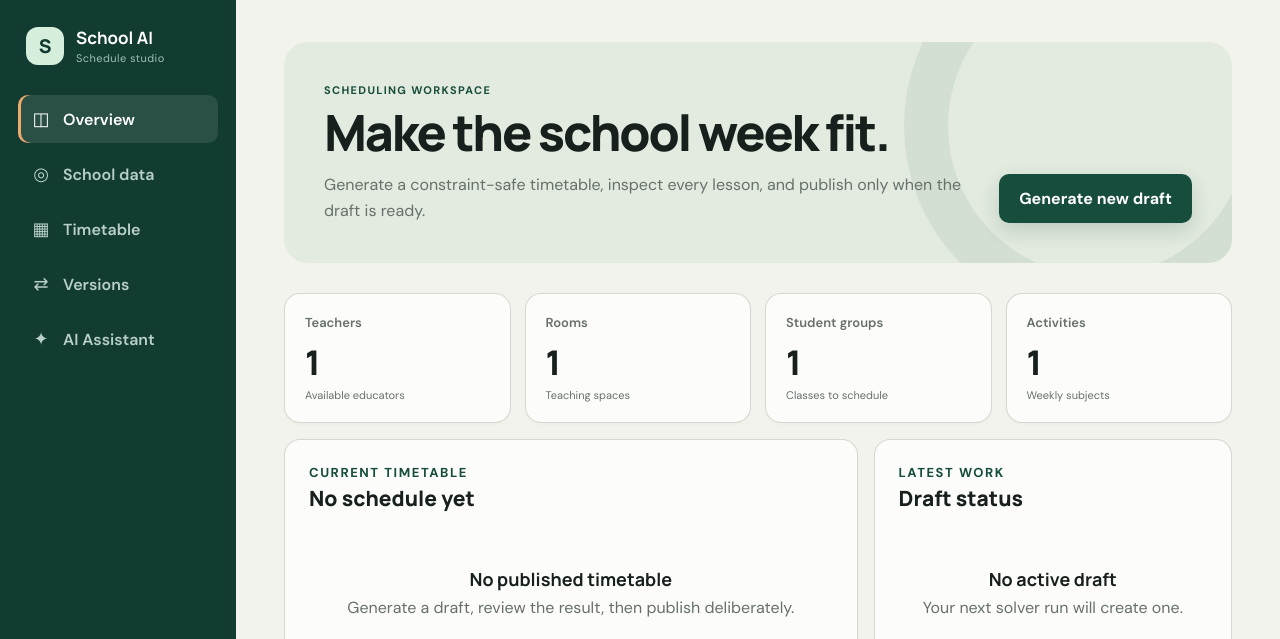
it: opens the AI Assistant without disrupting the scheduling screens
Click the button "✦ AI Assistant" at x=118, y=339, box [18,315,218,363]
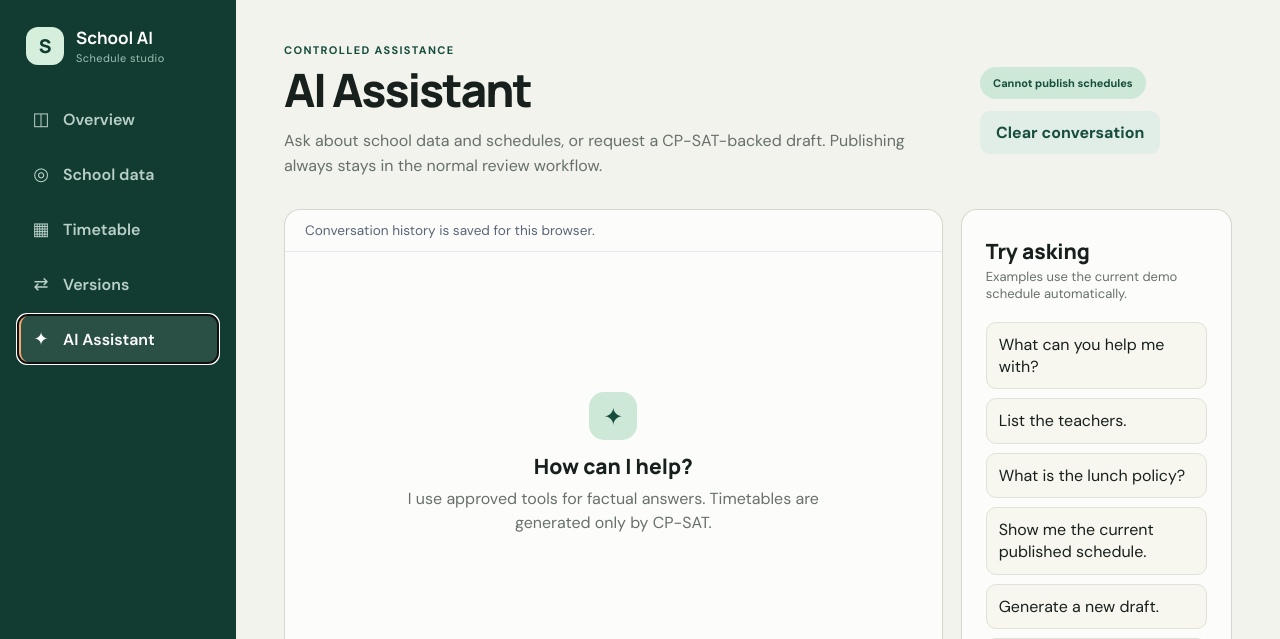
Check: the heading "AI Assistant" is shown, box [284,58,531,121]
Check: the text "Cannot publish schedules" is shown, box [980,67,1146,99]
Click the button "◫ Overview" at x=118, y=119, box [18,95,218,143]
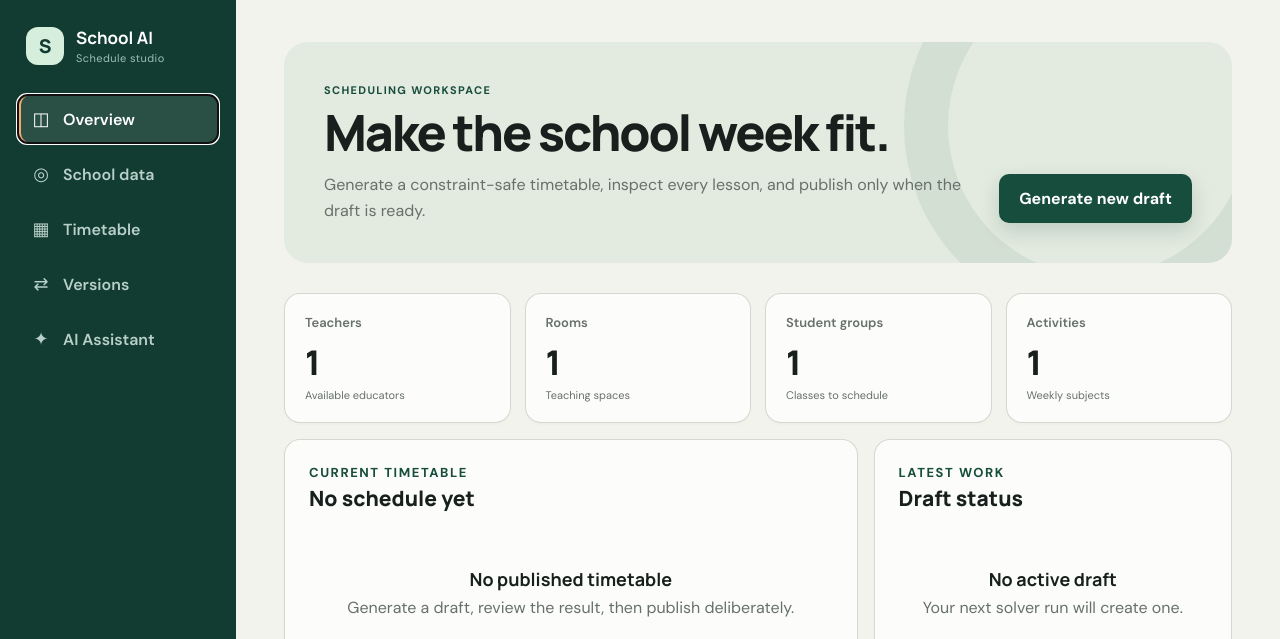
Check: the heading "Make the school week fit." is shown, box [324,106,967,158]
